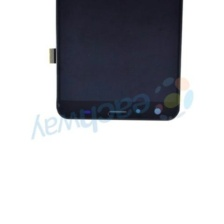phone: (43, 0, 193, 128)
